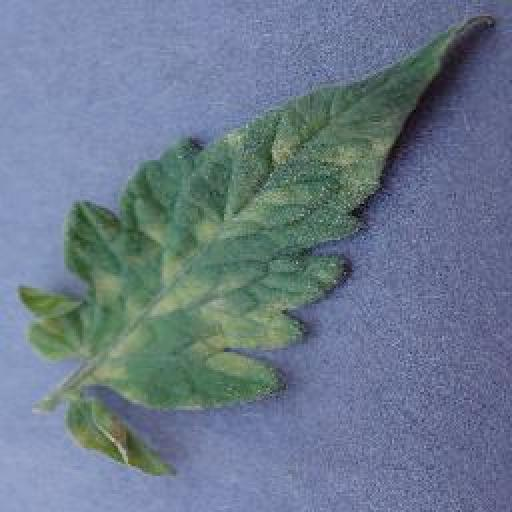disease_tomato: (20, 10, 486, 412), (62, 393, 180, 483)
